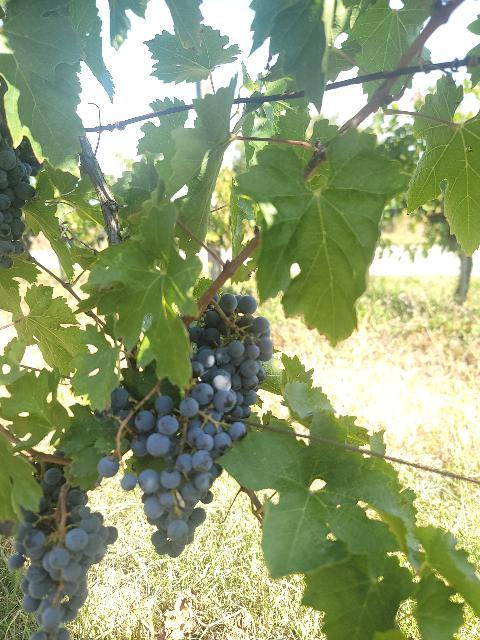grapes: (121, 381, 246, 558), (9, 468, 118, 640), (189, 292, 274, 418)
